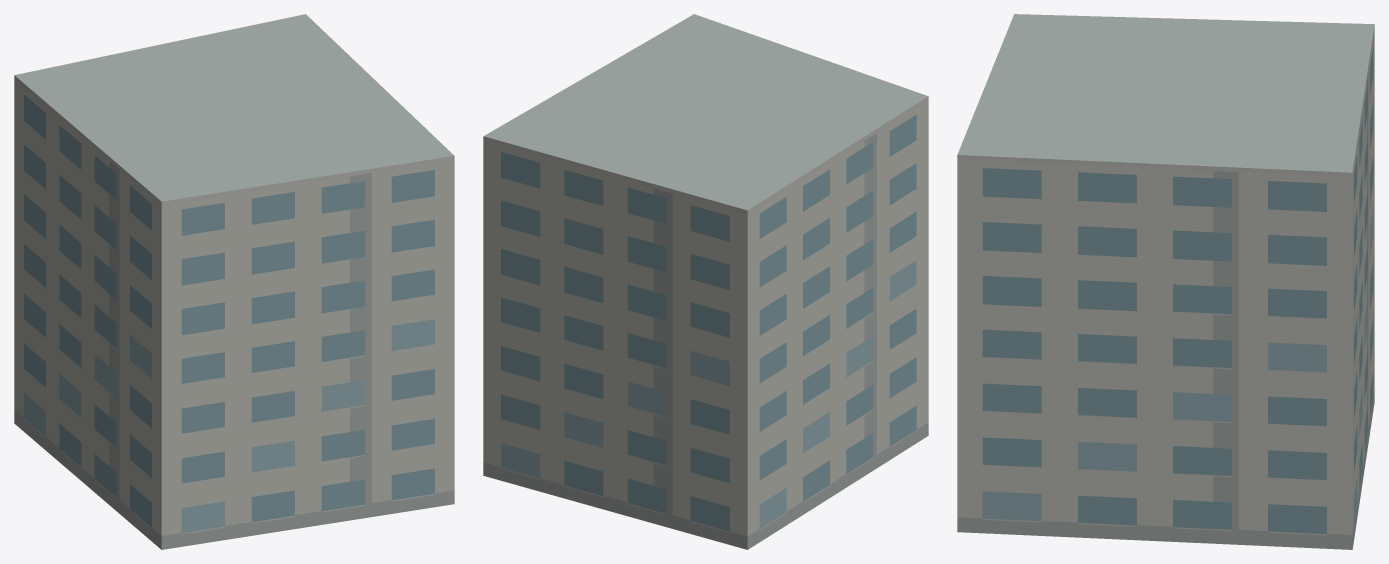
The model's file is survey-upis-32641195.glb.
3 renders of one model, left to right at view 1: azimuth 30°, elevation 25°; view 2: azimuth 150°, elevation 25°; view 3: azimuth 270°, elevation 25°, orthographic. The views are drawn at different scales.
Parts seen in each view (by area): view 1: survey-upis-32641195.tmp; view 2: survey-upis-32641195.tmp; view 3: survey-upis-32641195.tmp.
Part boxes in pixels (box(x1,y1,x2,y2)): survey-upis-32641195.tmp: box(14, 14, 454, 549); survey-upis-32641195.tmp: box(483, 14, 928, 549); survey-upis-32641195.tmp: box(957, 14, 1374, 549).
Size of the model in its own units: 17.7 by 19.6 by 19.67.
